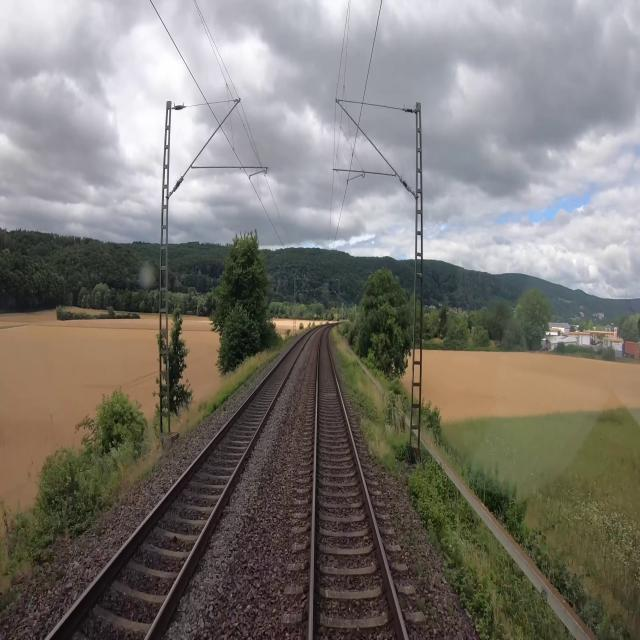Plant: (335, 345, 398, 480), (413, 561, 424, 576), (399, 597, 404, 610), (404, 534, 410, 543)
